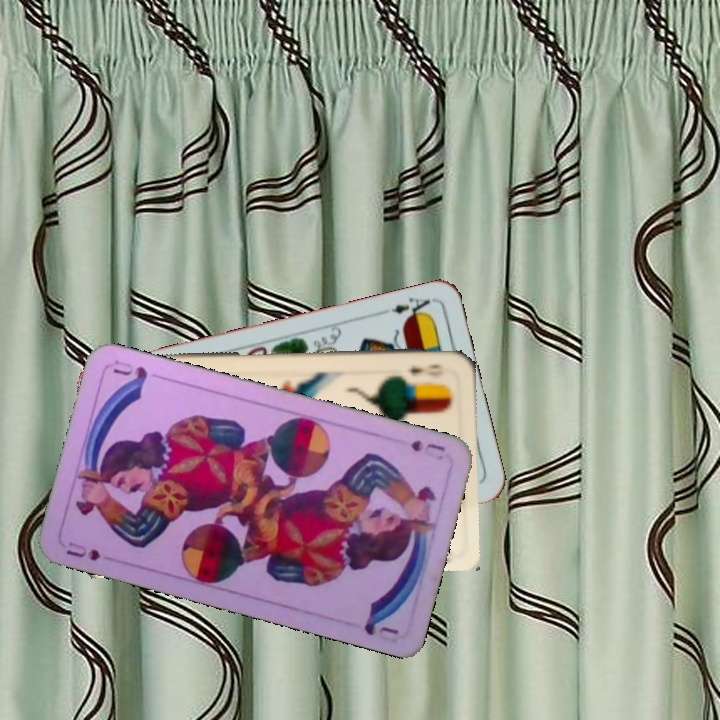EA: (388, 293, 435, 323)
EO: (405, 360, 446, 379)
SU: (406, 436, 448, 463), (62, 537, 103, 564)
